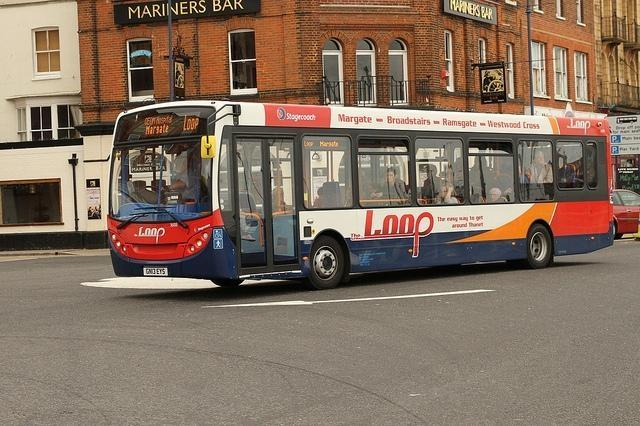bus: (104, 96, 616, 288)
car: (613, 188, 640, 241)
